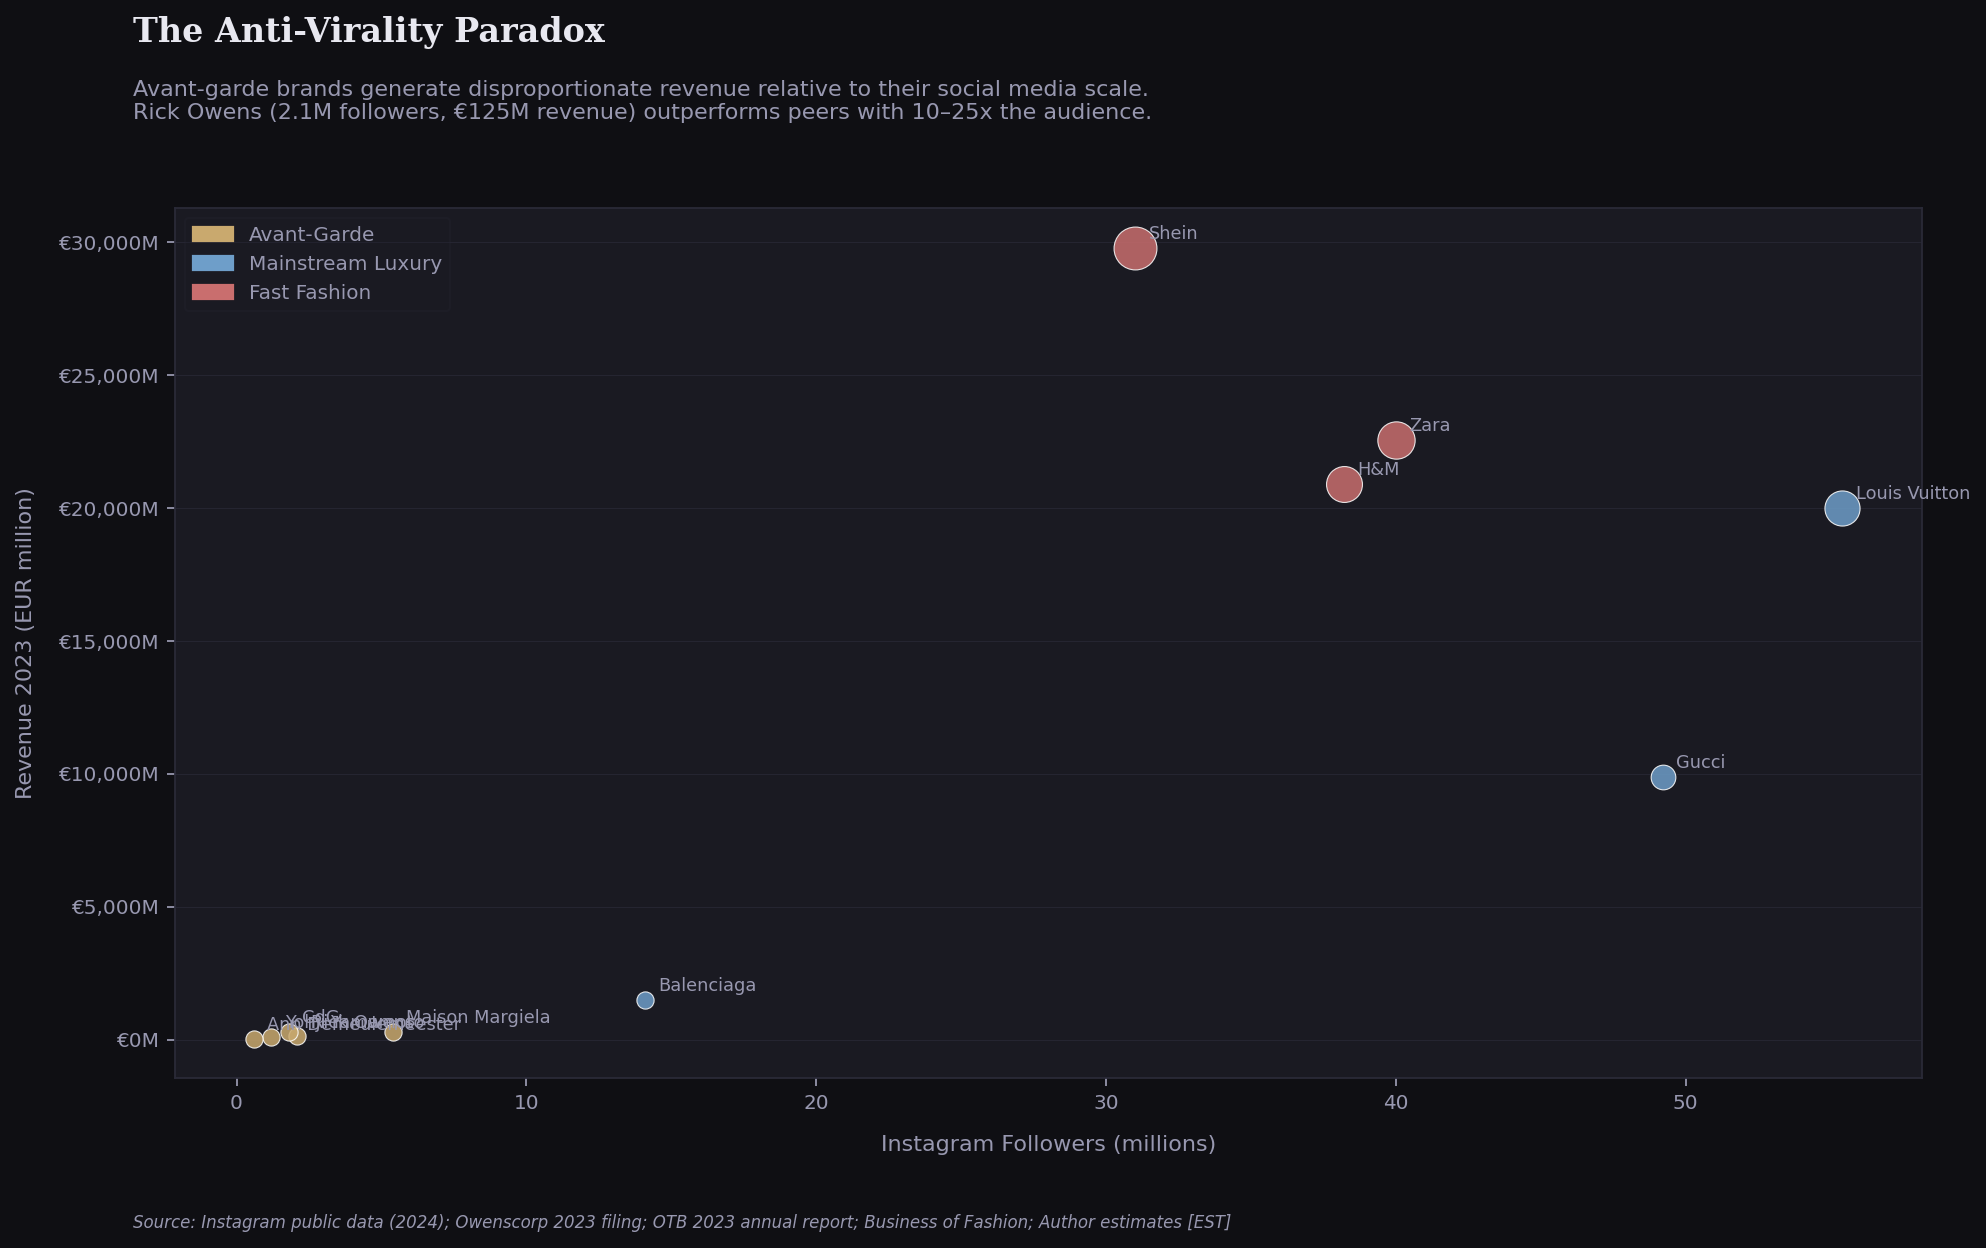

The page's visual inventory and layout, read from the dashboard file:
{"tool":"powerbi","page":{"name":"Anti-Virality","canvas":[1280,720],"ordinal":1},"visuals":[{"type":"textbox","box":[10,0,446,59],"z":0},{"type":"textbox","box":[10,59,402,53],"z":1},{"type":"scatterChart","title":"The Anti-Virality Paradox","fields":{"X":["Avg(Master Dataset (3).Instagram_Followers_M)"],"Y":["Avg(Master Dataset (3).Revenue_EUR_M)"],"Category":["Master Dataset (3).Brand"],"Series":["Master Dataset (3).Category"],"Size":["Avg(Master Dataset (3).Revenue_EUR_M)"]},"box":[10,122.5,931.2,431.2],"z":2}]}

Visuals, with their boxes on the page's 1280x720 design canvas (x1, y1, x2, y2). These are canvas units, not pixel positions in the 1986x1248 screenshot, which may show the page scaled, cropped or inside an application window:
textbox: crop(10, 0, 456, 59)
textbox: crop(10, 59, 412, 112)
"The Anti-Virality Paradox" scatterChart: crop(10, 122, 941, 554)
